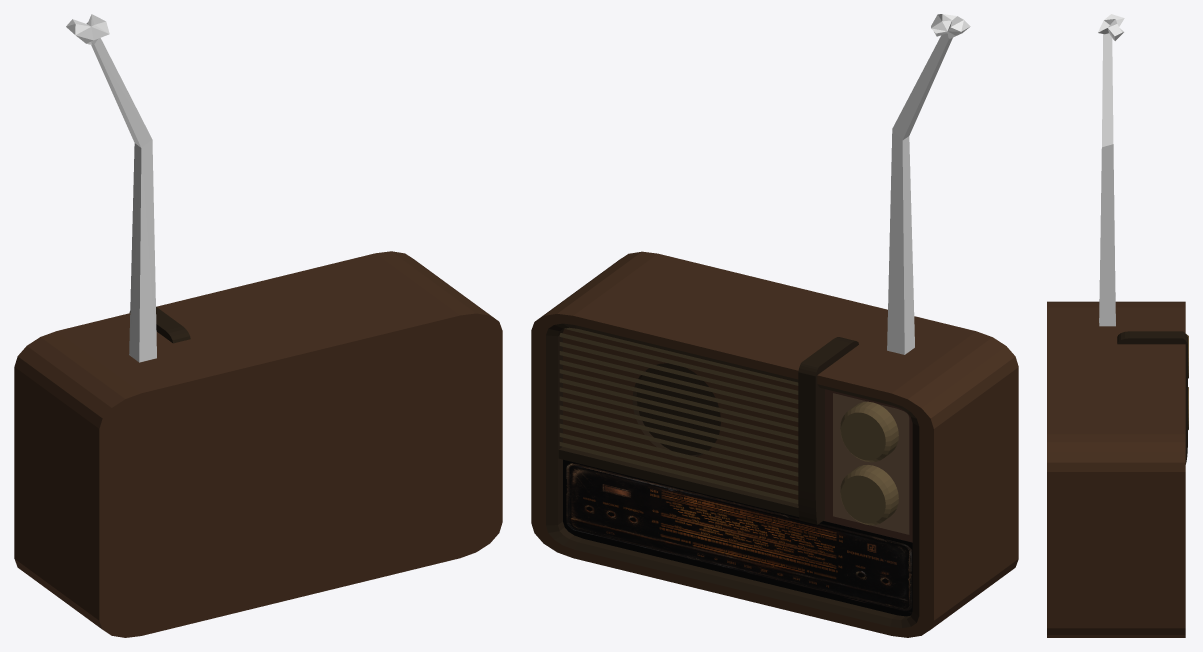
File: Radio.fbx
The picture shows the model from 3 angles, left to right: view 1: azimuth 30°, elevation 25°; view 2: azimuth 150°, elevation 25°; view 3: azimuth 270°, elevation 25°; orthographic projection. The views are drawn at different scales.
Visible parts, largest first — view 1: Cube.001; view 2: Cube.001, Roller_bot, Roller_top; view 3: Cube.001.
Part boxes in pixels (<box>): Cube.001: <box>14,14,502,637</box>; Cube.001: <box>531,14,1018,637</box>; Roller_bot: <box>840,465,898,525</box>; Roller_top: <box>840,401,898,462</box>; Cube.001: <box>1047,14,1187,637</box>.
Size of the model in its own units: 215 by 80.42 by 302.
